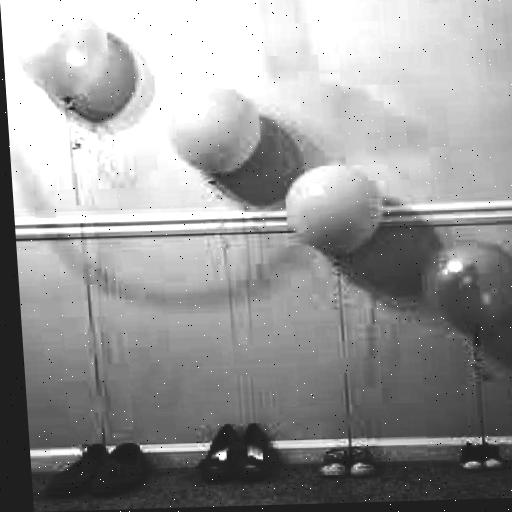balloon: (5, 0, 115, 104), (282, 163, 387, 257), (162, 87, 265, 178), (421, 237, 512, 338)
